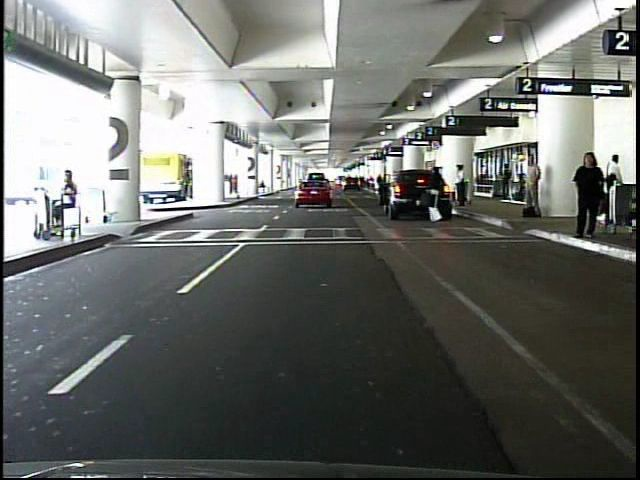person: (34, 165, 80, 239), (571, 149, 606, 245), (600, 153, 622, 215), (428, 165, 444, 224), (453, 165, 468, 210), (500, 162, 512, 201)
